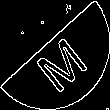M_NW: (23, 21, 87, 89)
